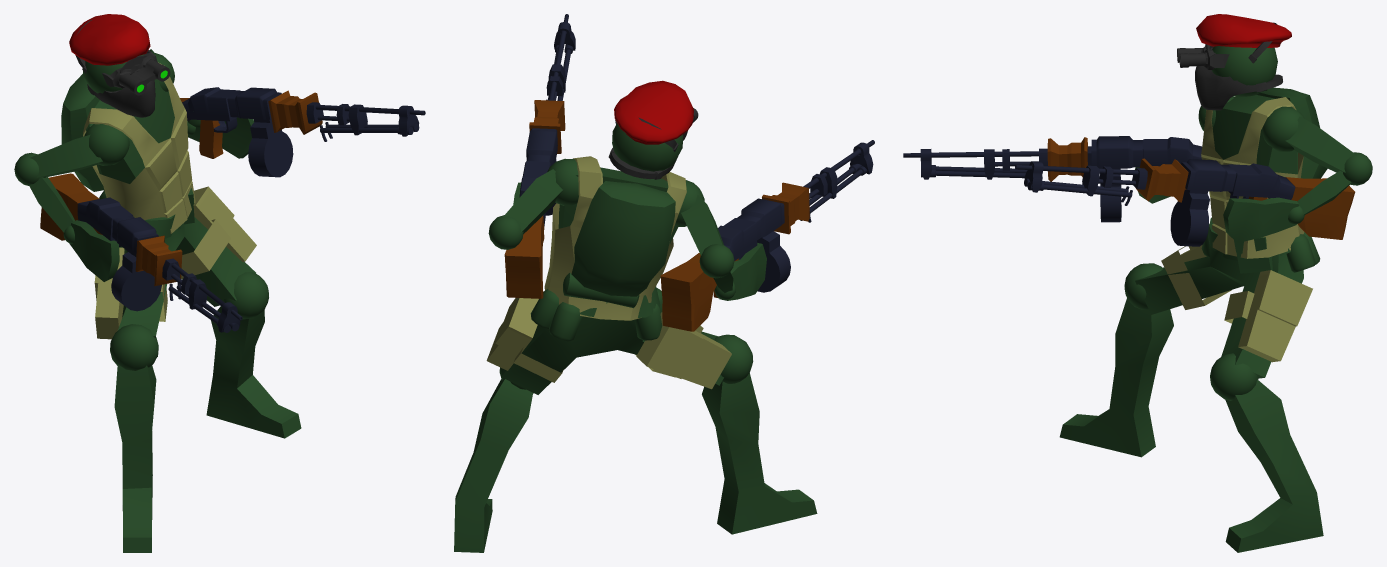
Rendered from Commando.obj.
The picture shows the model from 3 angles, left to right: view 1: azimuth 30°, elevation 25°; view 2: azimuth 150°, elevation 25°; view 3: azimuth 270°, elevation 25°; orthographic projection. The views are drawn at different scales.
Parts seen in each view (by area): view 1: Weapon___Left, Weapon___Right, Character_RightLeg, Character_LeftLeg, Armor, Character_RightArm, Character_Torso, Character_Pelvis, Box002, Beret, Character_AmmoPack, Box001 (+6 smaller); view 2: Character_AmmoPack, Weapon___Right, Character_RightLeg, Weapon___Left, Character_LeftLeg, Armor, Character_Pelvis, Character_RightArm, Beret, Box001, Box002, Character_LeftArm (+4 smaller); view 3: Weapon___Left, Character_LeftLeg, Character_RightLeg, Weapon___Right, Character_LeftArm, Character_Pelvis, Box002, Character_Torso, Armor, Beret, Mask, Character_Head (+4 smaller).
Boxes of the visible parts, <box> form: Weapon___Left: <box>180,87,425,177</box>; Weapon___Right: <box>40,173,242,332</box>; Character_RightLeg: <box>110,324,158,552</box>; Character_LeftLeg: <box>206,272,301,438</box>; Armor: <box>83,62,195,233</box>; Character_RightArm: <box>14,134,119,281</box>; Character_Torso: <box>84,53,174,183</box>; Character_Pelvis: <box>117,217,255,356</box>; Box002: <box>181,186,256,278</box>; Beret: <box>69,14,150,65</box>; Character_AmmoPack: <box>61,74,106,199</box>; Box001: <box>94,247,167,339</box>; Character_AmmoPack: <box>563,181,675,308</box>; Weapon___Right: <box>660,140,874,331</box>; Character_RightLeg: <box>702,334,817,534</box>; Weapon___Left: <box>504,14,575,298</box>; Character_LeftLeg: <box>454,367,533,552</box>; Armor: <box>544,156,686,320</box>; Character_Pelvis: <box>501,316,723,394</box>; Character_RightArm: <box>681,195,766,300</box>; Beret: <box>614,80,693,144</box>; Box001: <box>635,312,731,389</box>; Box002: <box>486,298,563,382</box>; Character_LeftArm: <box>488,169,562,249</box>; Weapon___Left: <box>1015,158,1355,246</box>; Character_LeftLeg: <box>1210,353,1323,552</box>; Character_RightLeg: <box>1059,263,1173,457</box>; Weapon___Right: <box>903,136,1201,222</box>; Character_LeftArm: <box>1223,116,1372,242</box>; Character_Pelvis: <box>1135,241,1303,378</box>; Box002: <box>1224,270,1312,362</box>; Character_Torso: <box>1198,95,1304,174</box>; Armor: <box>1201,96,1304,258</box>; Beret: <box>1196,14,1291,47</box>; Mask: <box>1195,22,1282,110</box>; Character_Head: <box>1212,46,1277,96</box>.
Size of the model in its own units: 56.88 by 85.47 by 81.35.
